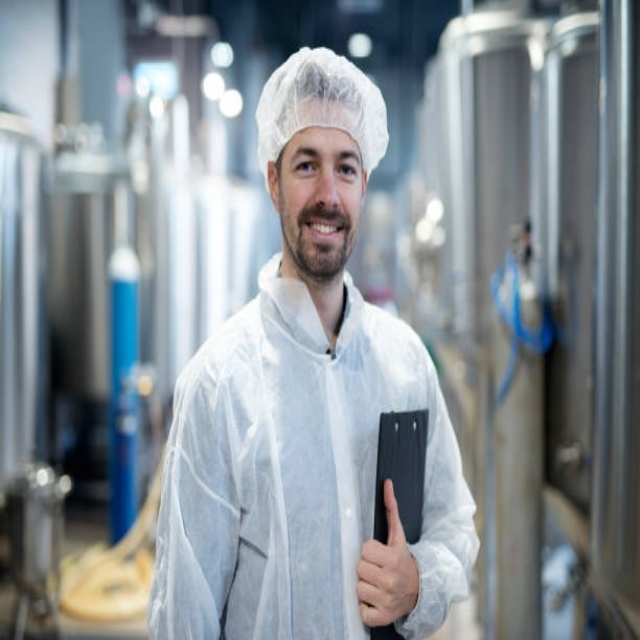Sin_gafas: (287, 143, 362, 190)
Sin_guantes: (355, 476, 421, 630)
Sin_mascara: (301, 210, 346, 259)
